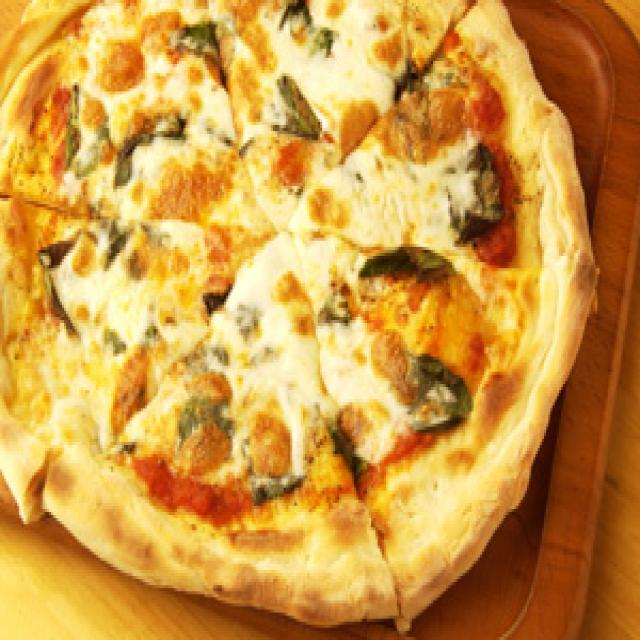汉堡快餐: (0, 0, 602, 622)
